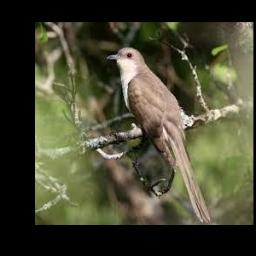Cuckoo: (107, 47, 209, 223)
